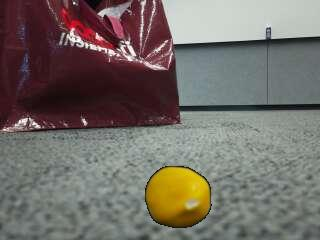lemon: (146, 168, 211, 228)
